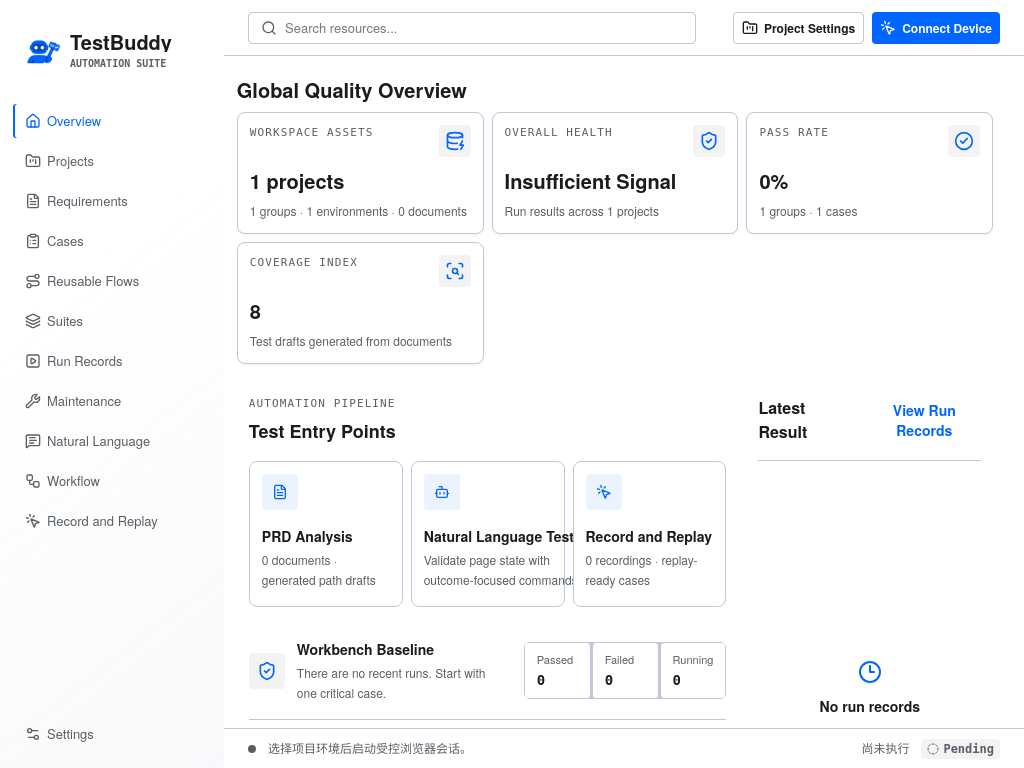
Scenario: App shell › pins a bound Case run to its observed project revision and directs stale snapshots to reload
This screenshot has width=1024, height=768.
Step 1. Click the button "Cases" → (112,241), box [12,223,212,259]
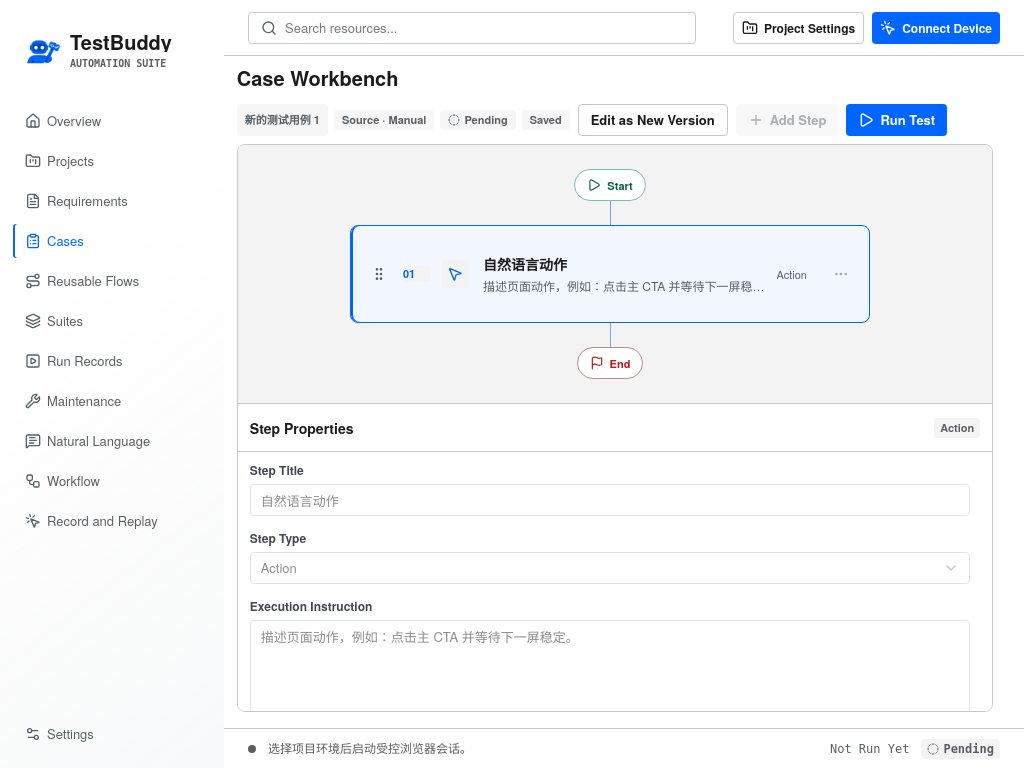
expect the heading "Case Workbench" is shown: met, box [237,64,398,92]
Step 2. Click the button "Run Test" → (897,120), box [846,104,947,136]
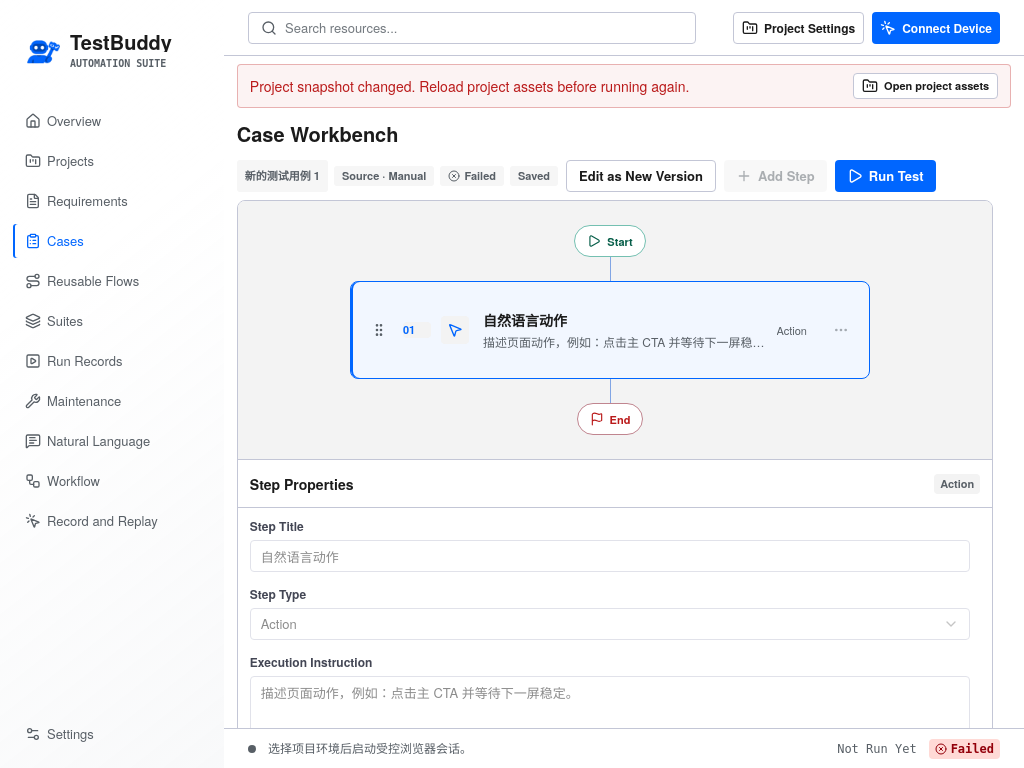
expect the 1st message shows "Project snapshot changed. Reload project assets before running again.": met, box [250,76,689,96]
Step 3. Click the button "Open project assets" → (926,86), box [853,73,998,99]
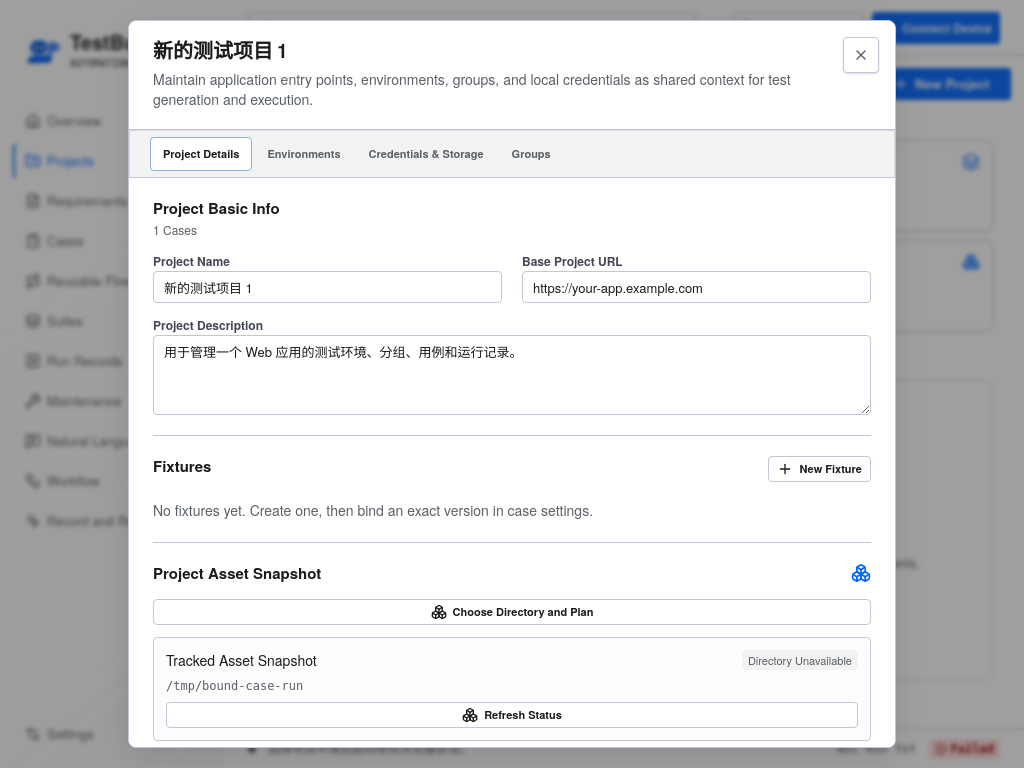
expect the dialog shows "Project Asset Snapshot": met, box [153,562,321,584]
